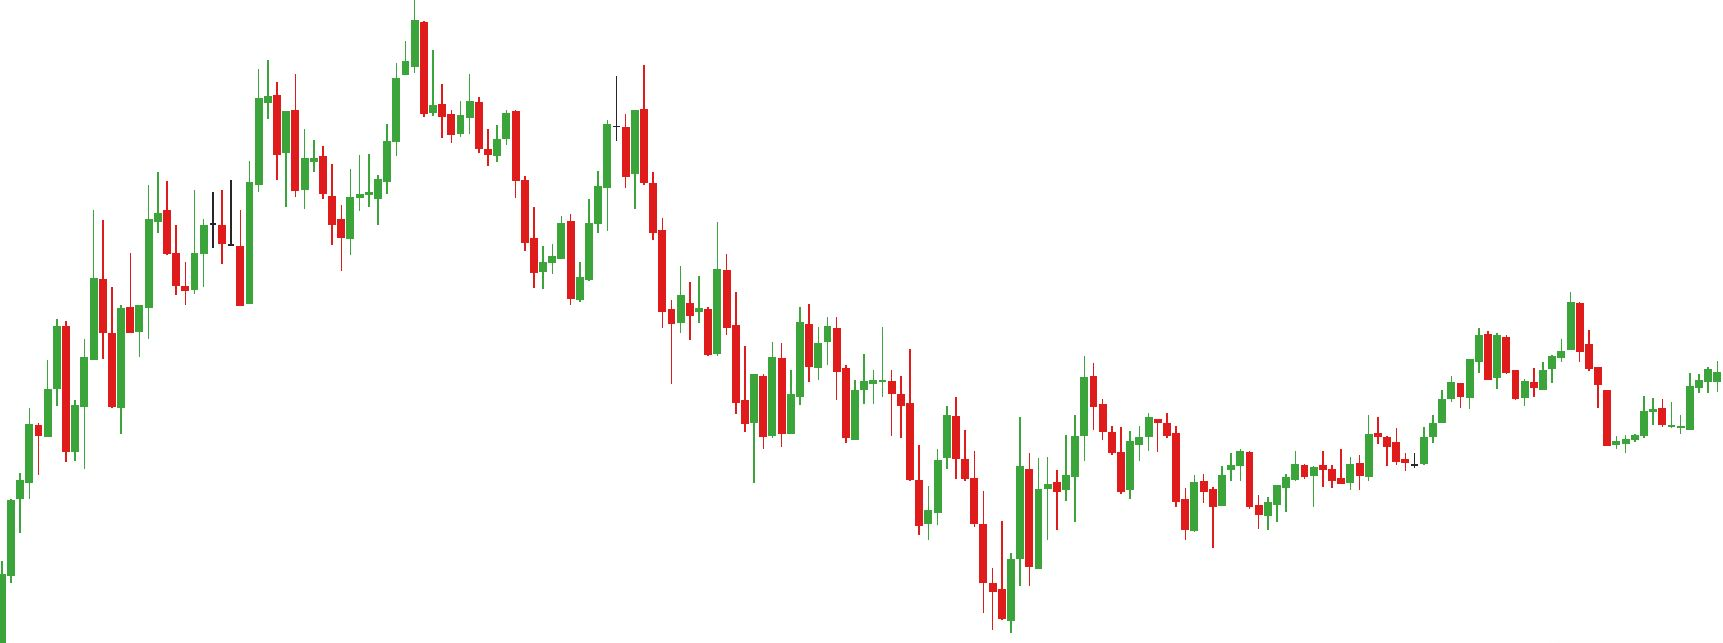buy: (914, 458, 1024, 636), (1116, 431, 1201, 547), (180, 221, 260, 307)
sell: (249, 2, 427, 177), (511, 60, 631, 236), (1474, 290, 1586, 380), (676, 217, 735, 348)
